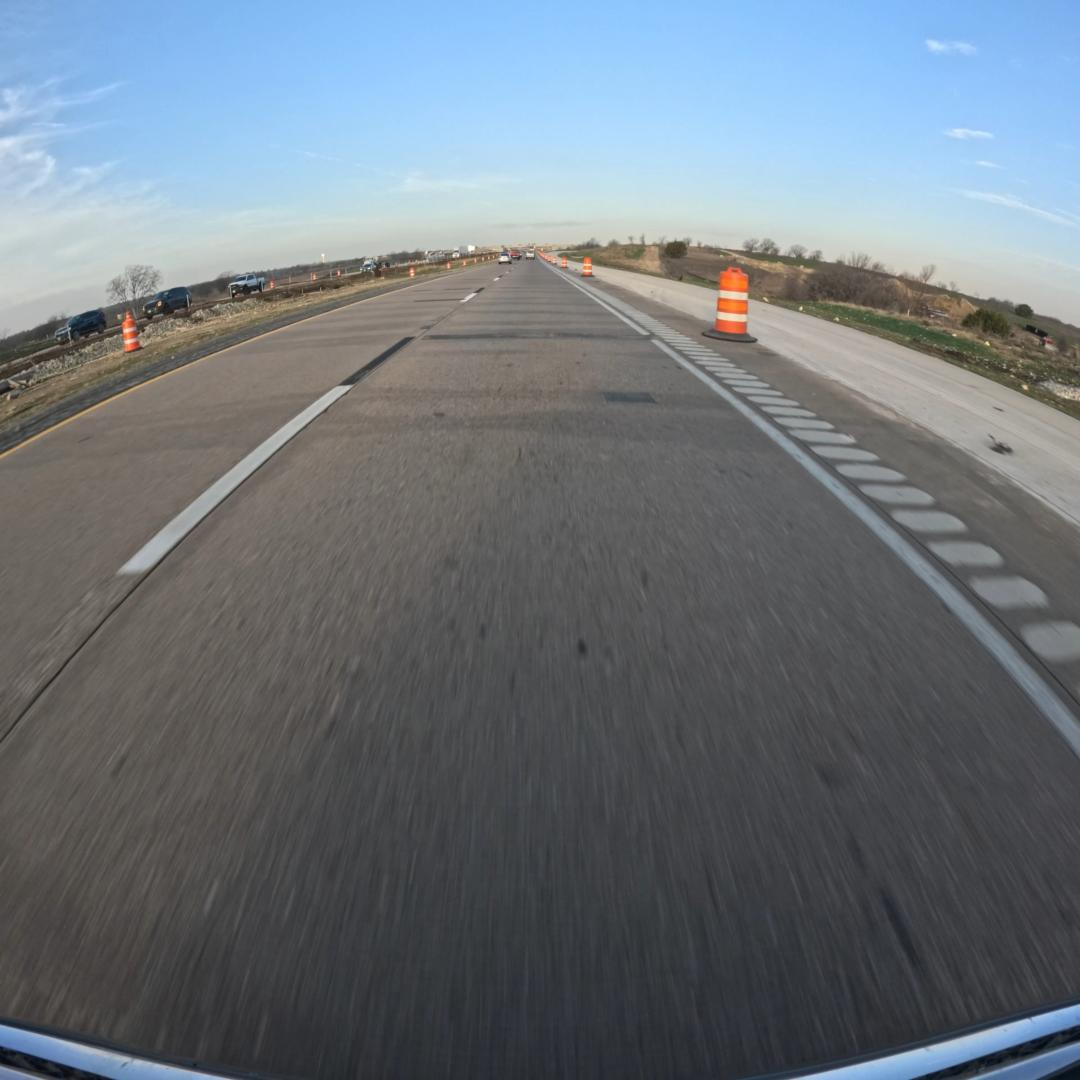lane0: (0, 265, 1080, 1080)
lane1: (0, 265, 501, 742)
